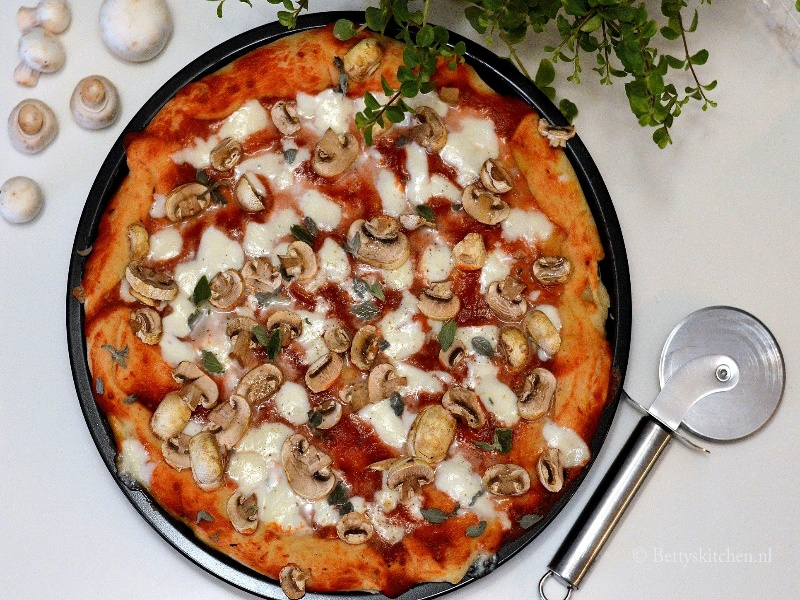champignon: (276, 433, 338, 506), (341, 211, 414, 272), (202, 396, 257, 454), (481, 273, 540, 325), (383, 456, 438, 511), (169, 356, 219, 415), (455, 181, 516, 229), (309, 127, 359, 183), (121, 259, 185, 302), (512, 365, 558, 423), (219, 490, 269, 541), (413, 277, 468, 323), (405, 104, 451, 158), (233, 361, 288, 404), (532, 441, 573, 497), (159, 180, 214, 221), (124, 307, 174, 350), (328, 509, 383, 548), (266, 559, 318, 600), (301, 352, 345, 398), (278, 237, 318, 287), (479, 461, 533, 498), (205, 268, 247, 313), (266, 97, 310, 139), (204, 134, 248, 172), (348, 326, 379, 373)
